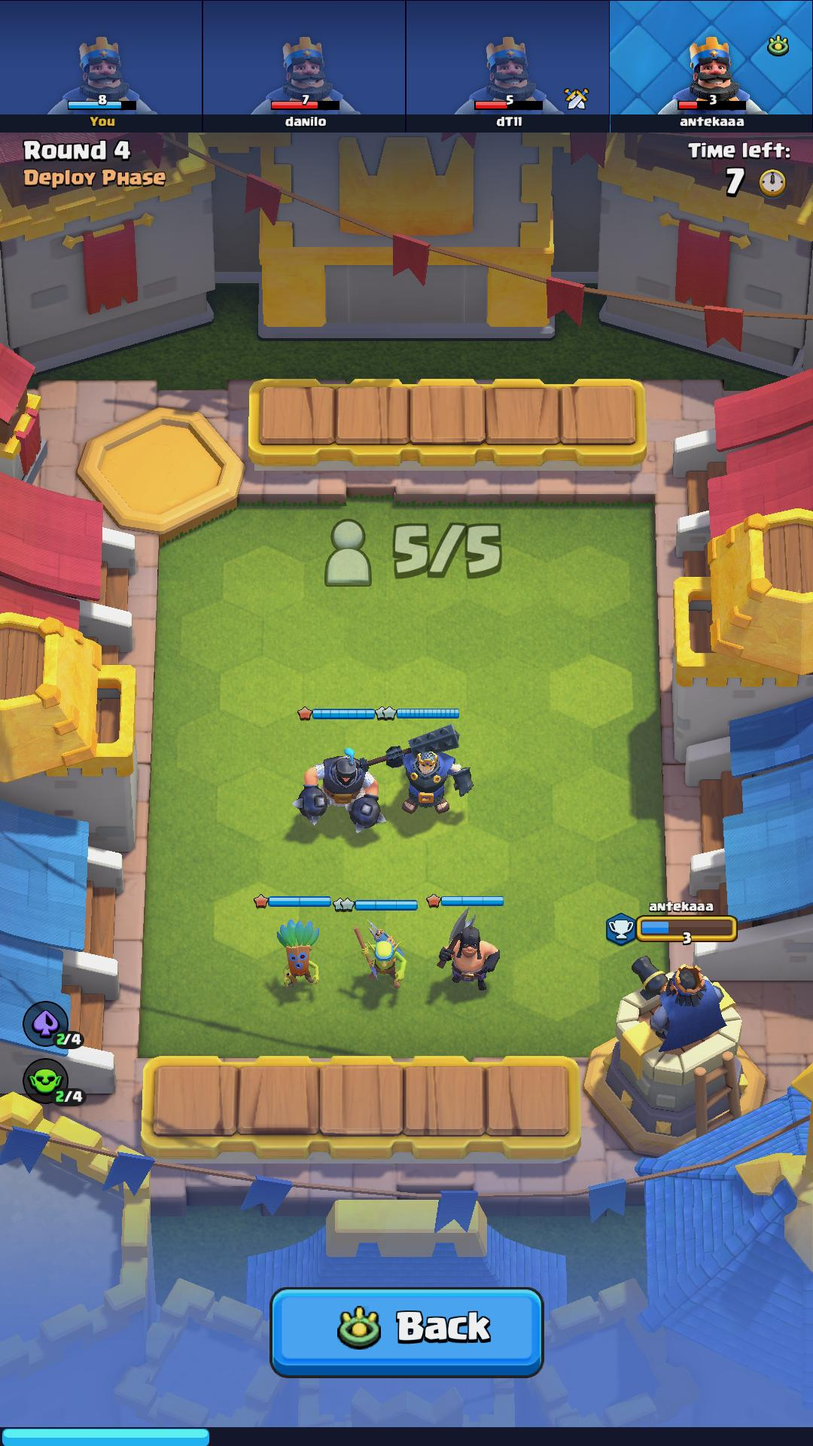dart: (270, 910, 324, 988)
executioner: (438, 908, 500, 988)
king: (386, 725, 473, 819)
mega: (297, 738, 385, 831)
spear: (348, 919, 406, 993)
